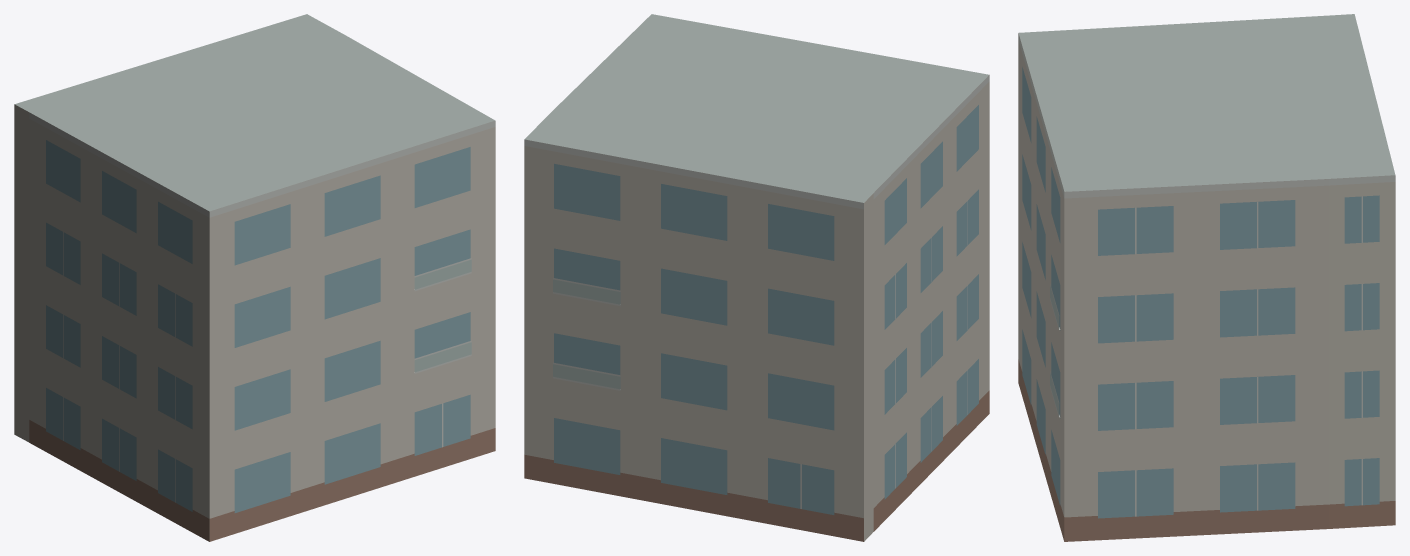
Rendered from survey-upis-32673172.glb.
3 renders of one model, left to right at view 1: azimuth 30°, elevation 25°; view 2: azimuth 150°, elevation 25°; view 3: azimuth 270°, elevation 25°, orthographic. The views are drawn at different scales.
Visible parts, largest first — view 1: survey-upis-32673172.tmp; view 2: survey-upis-32673172.tmp; view 3: survey-upis-32673172.tmp.
Boxes of the visible parts, x1,y1,x2,y2 form: survey-upis-32673172.tmp: [14, 14, 495, 541]; survey-upis-32673172.tmp: [524, 14, 989, 541]; survey-upis-32673172.tmp: [1018, 14, 1395, 541].
Bounding box in the file's own units: 13.96 × 12.8 × 12.51.
